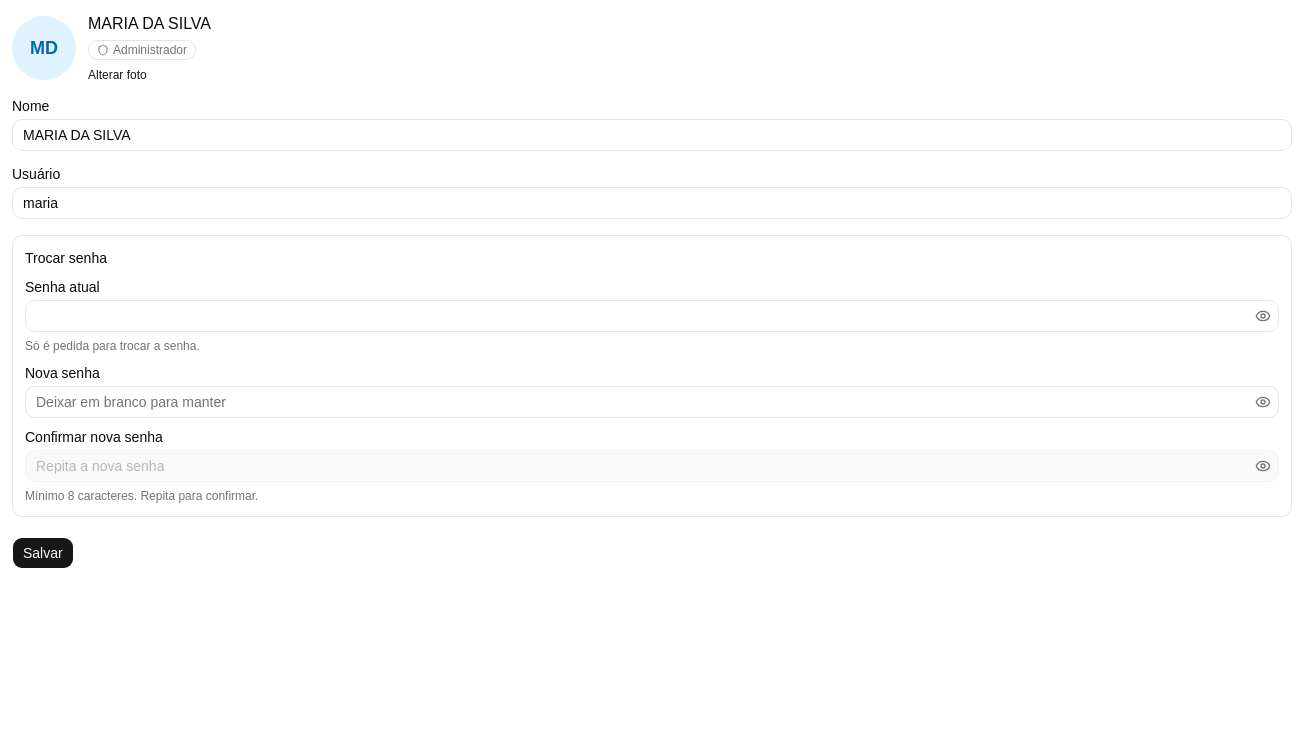
Test: Minha conta: trocar a senha › senha nova com menos de 8 caracteres não é enviada
Type "senha-velha" into the password field labelled "Senha atual" at (652, 316), box [25,300,1279,332]
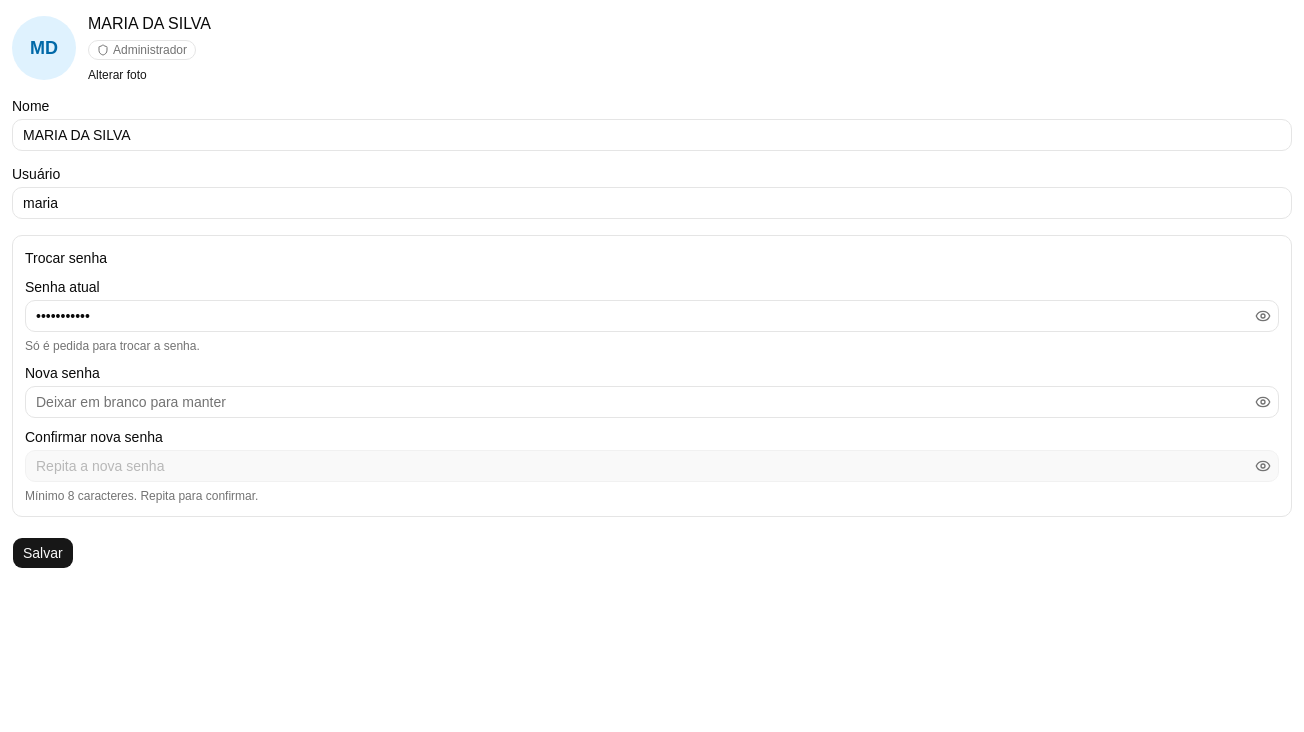
Type "curta" into the password field labelled "Nova senha" at (652, 402), box [25,386,1279,418]
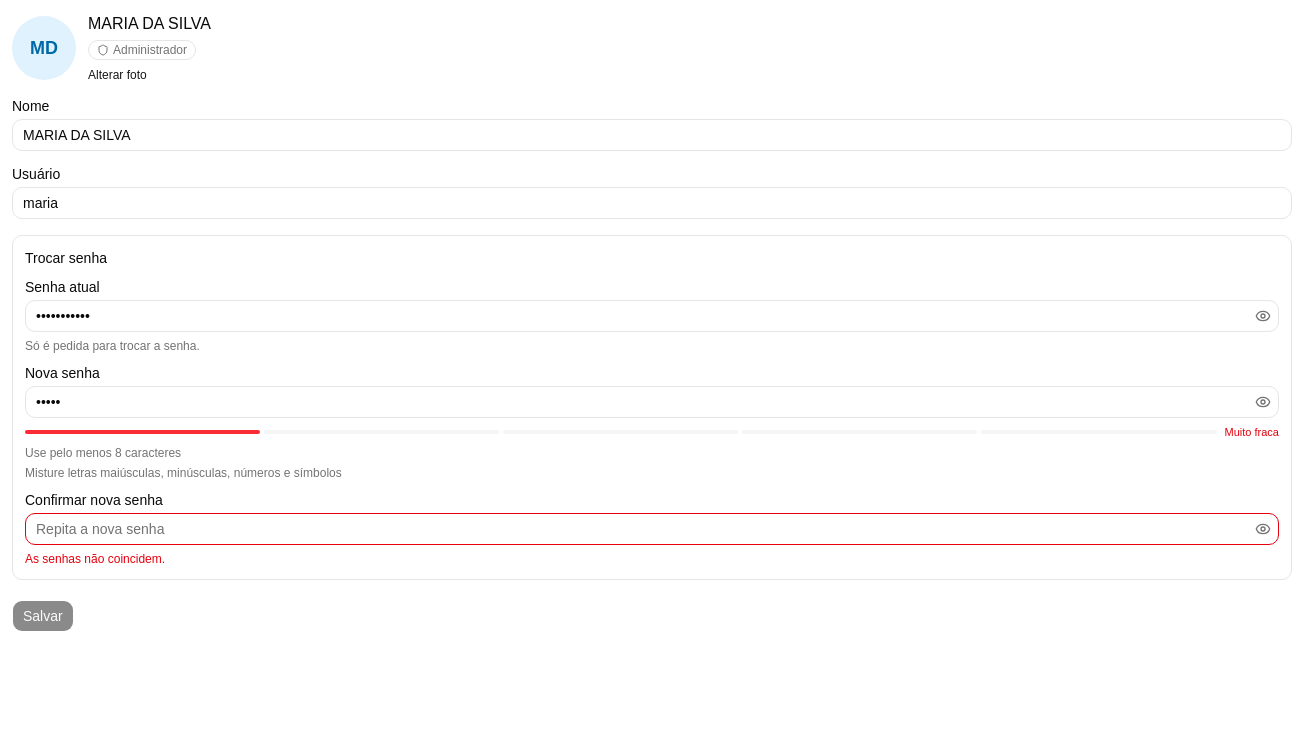
Type "curta" into the password field labelled "Confirmar nova senha" at (652, 528), box [25,512,1279,544]
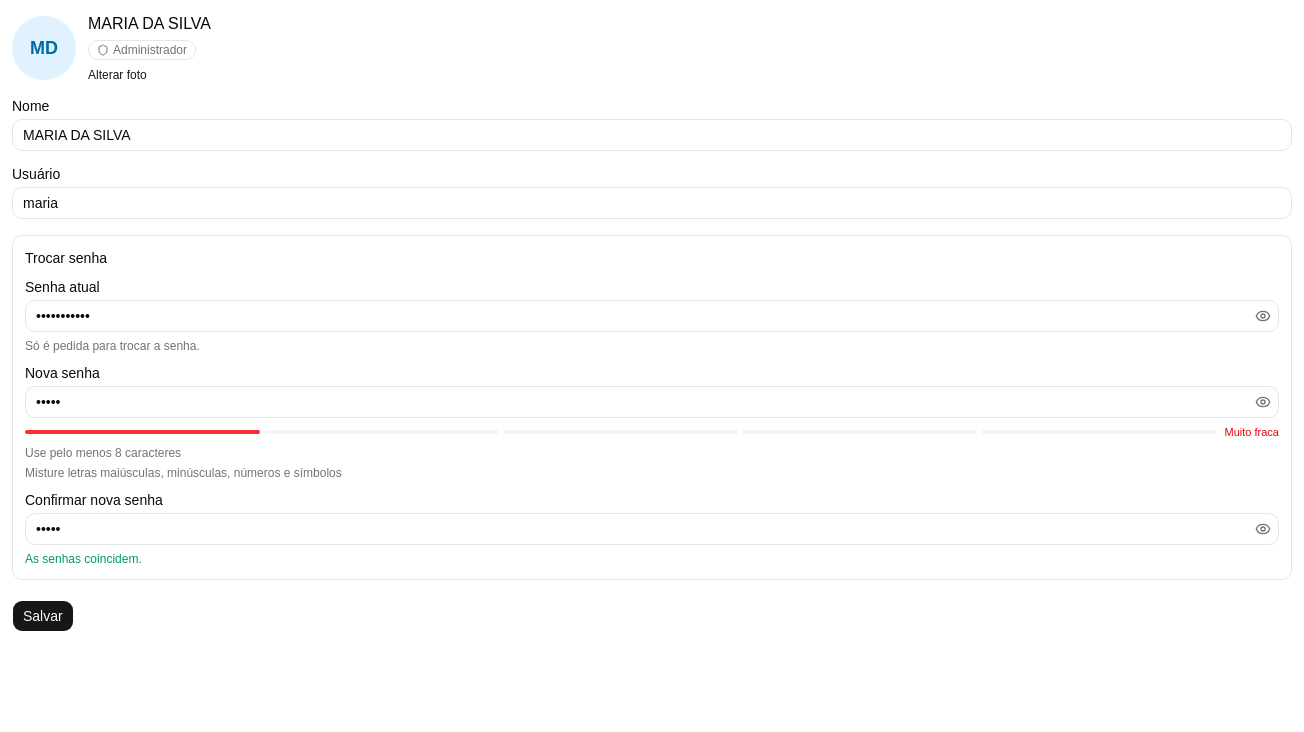
Click the button "Salvar" at (43, 616), box [12,600,74,632]
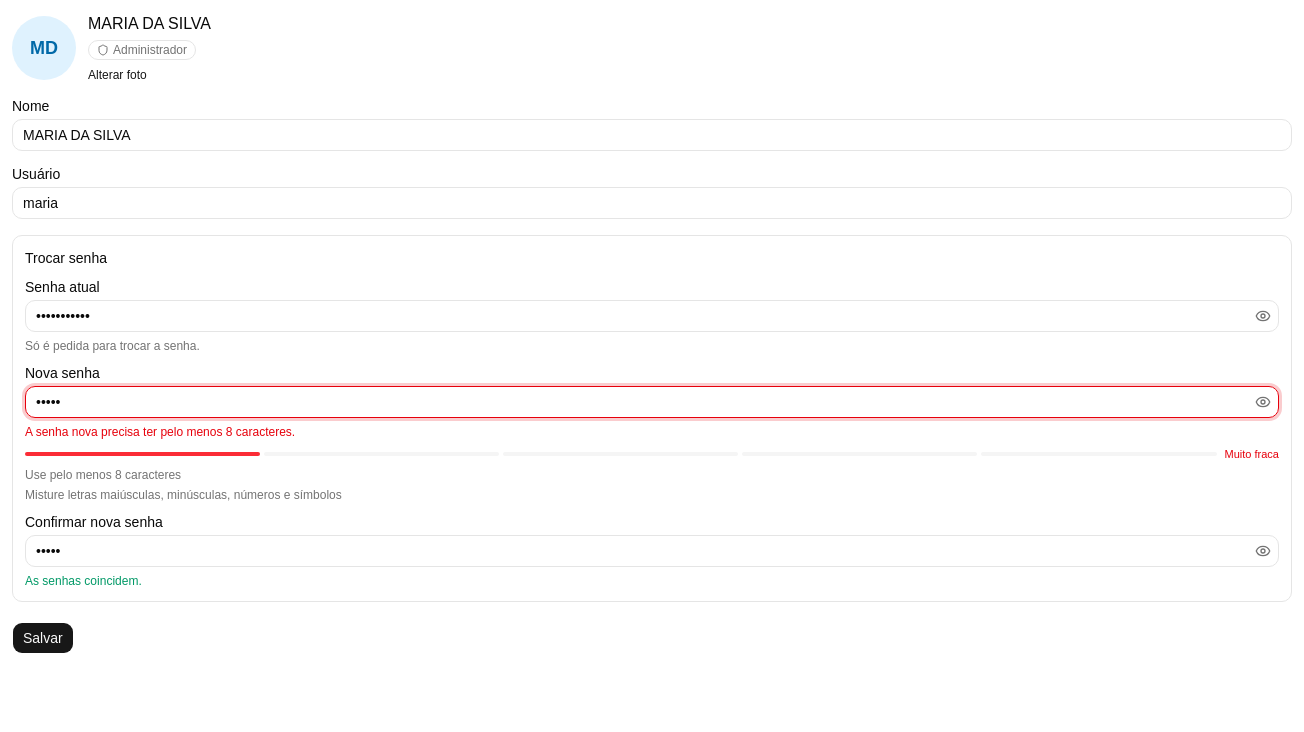
Expected: the text "A senha nova precisa ter pelo menos 8 caracteres." is shown, [25,425,295,439]
